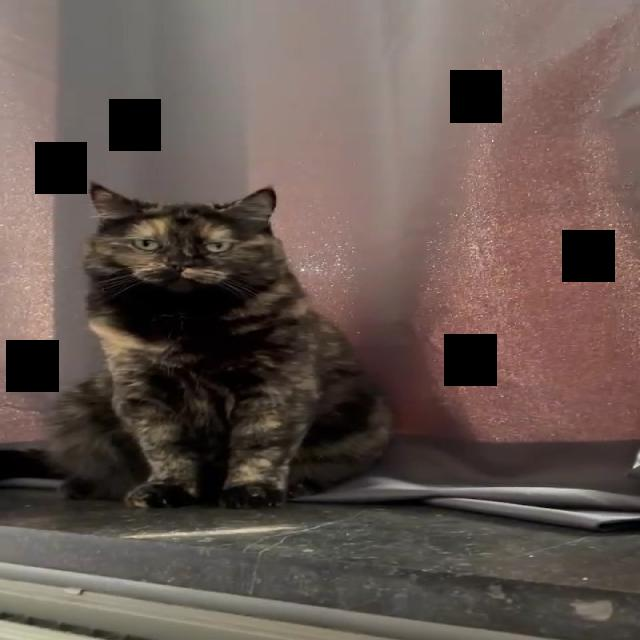authorized: (40, 180, 395, 510)
